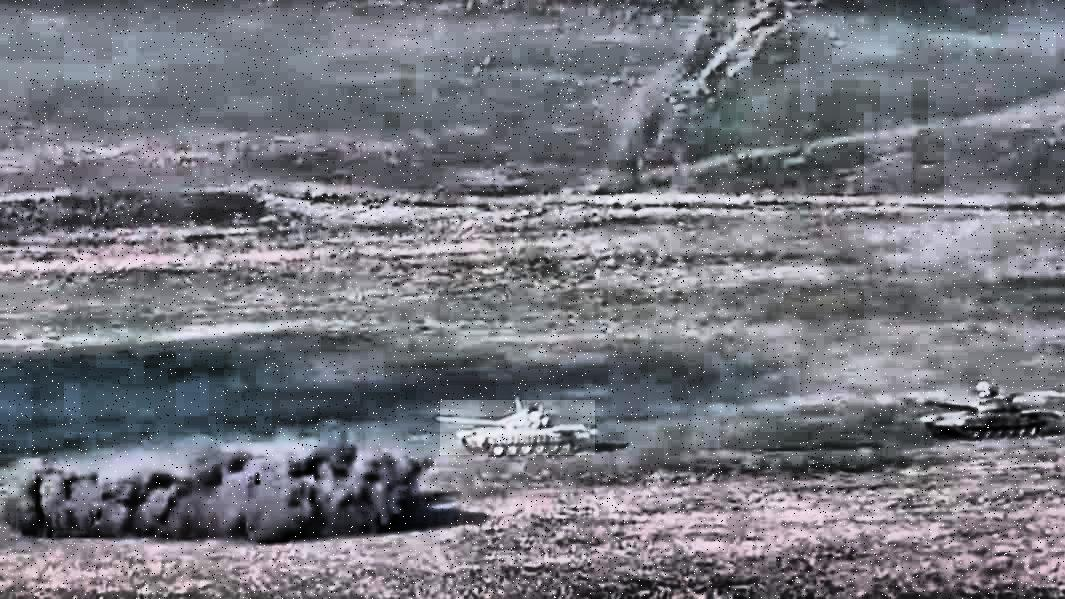military-vehicle: (924, 380, 1062, 444), (440, 400, 595, 455)
